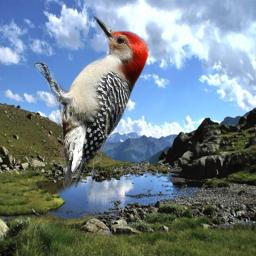Woodpecker: (28, 12, 154, 196)
